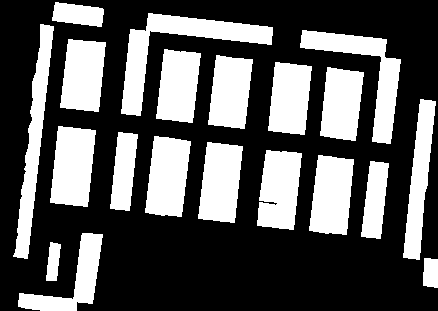parkingspot: (13, 24, 53, 258), (403, 99, 435, 259), (146, 13, 272, 44), (121, 29, 149, 115), (372, 57, 400, 143), (300, 30, 386, 56), (145, 136, 173, 215), (68, 128, 95, 206), (110, 132, 137, 210), (163, 138, 190, 216), (198, 142, 225, 220), (309, 155, 336, 233), (215, 144, 242, 222), (274, 151, 301, 229), (50, 126, 77, 204), (361, 161, 388, 238), (73, 233, 102, 303), (327, 158, 353, 234), (208, 55, 235, 126), (78, 41, 105, 111), (60, 39, 87, 109), (156, 49, 182, 120), (174, 51, 200, 122), (320, 67, 346, 138), (226, 58, 252, 128), (268, 62, 294, 132), (285, 64, 311, 134), (338, 70, 363, 140), (259, 150, 284, 202), (52, 2, 103, 26), (18, 293, 76, 311), (257, 202, 278, 227), (423, 258, 438, 287), (48, 242, 60, 262), (46, 260, 58, 280)
